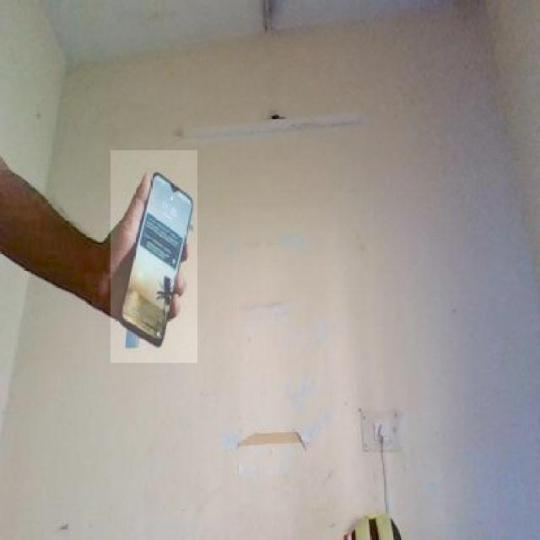phone: (117, 164, 196, 351)
